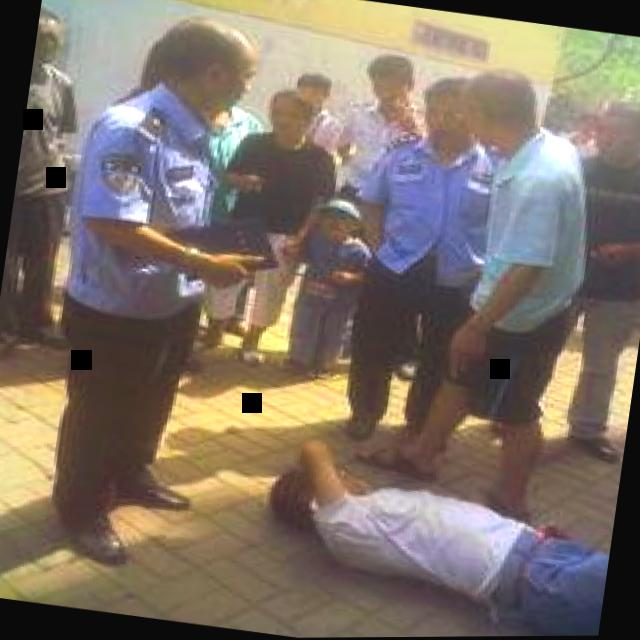Fall-Detected: (242, 406, 623, 639)
